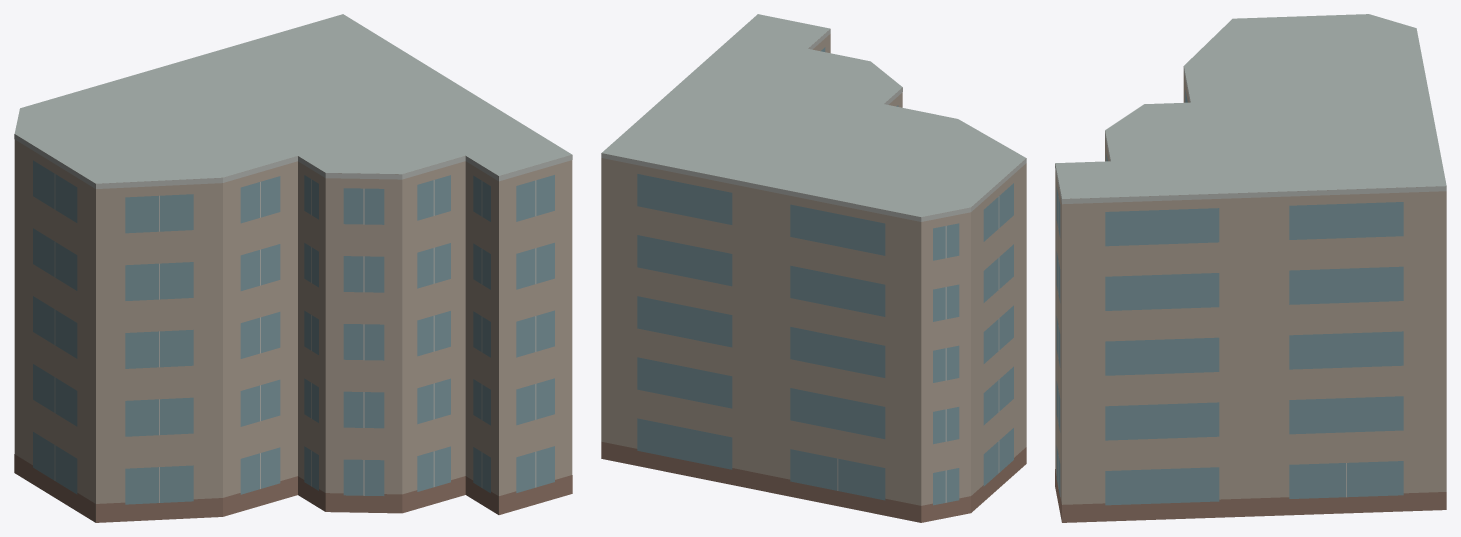
Rendered from survey-upis-32633233.glb.
3 renders of one model, left to right at view 1: azimuth 30°, elevation 25°; view 2: azimuth 150°, elevation 25°; view 3: azimuth 270°, elevation 25°, orthographic. The views are drawn at different scales.
Parts seen in each view (by area): view 1: survey-upis-32633233.tmp; view 2: survey-upis-32633233.tmp; view 3: survey-upis-32633233.tmp.
Part boxes in pixels (x1,y1,x2,y2): survey-upis-32633233.tmp: (14, 14, 572, 522); survey-upis-32633233.tmp: (601, 14, 1026, 522); survey-upis-32633233.tmp: (1055, 14, 1446, 522).
Size of the model in its own units: 18.88 by 15.4 by 16.88.
